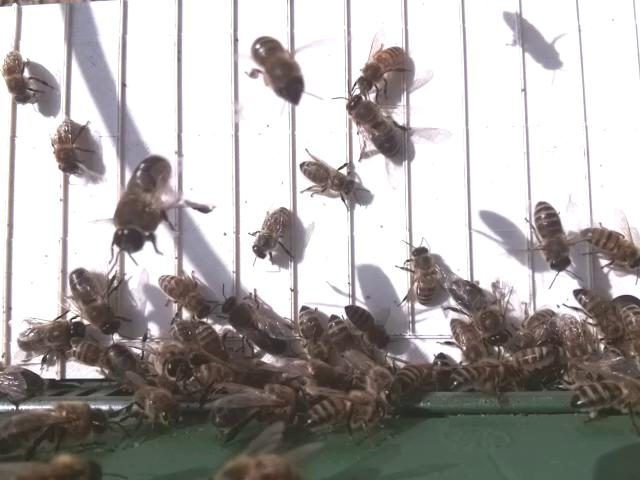Drone: (106, 154, 181, 258), (213, 290, 295, 359), (446, 272, 512, 350), (65, 263, 125, 337), (344, 92, 404, 164), (13, 317, 89, 355)
Worker: (246, 31, 306, 106), (531, 196, 574, 276), (155, 270, 214, 323), (355, 41, 407, 98), (582, 225, 640, 276), (297, 158, 360, 200), (250, 202, 294, 261), (408, 239, 442, 311), (1, 49, 38, 109), (49, 112, 83, 177), (343, 303, 389, 351), (298, 299, 328, 364)
